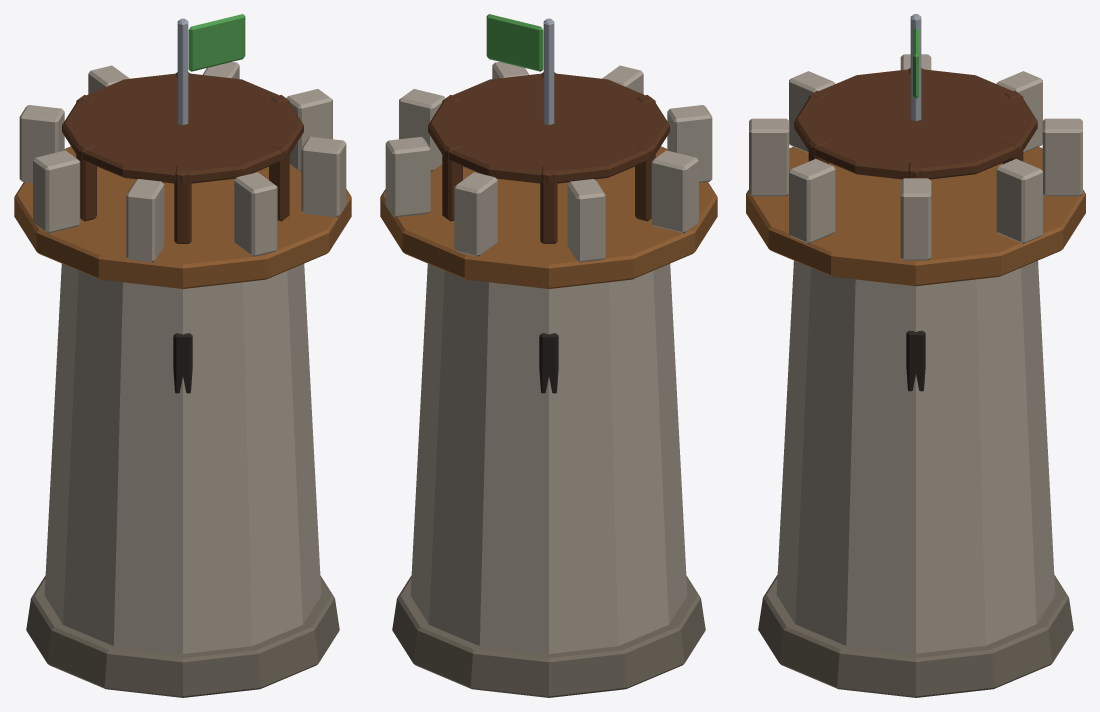
Rendered from tower_archer_2.glb.
The picture shows the model from 3 angles, left to right: view 1: azimuth 30°, elevation 25°; view 2: azimuth 150°, elevation 25°; view 3: azimuth 270°, elevation 25°; orthographic projection.
Parts seen in each view (by area): view 1: SM_Tower_Archer_t2; view 2: SM_Tower_Archer_t2; view 3: SM_Tower_Archer_t2.
Boxes of the visible parts, x1,y1,x2,y2 form: SM_Tower_Archer_t2: [14, 14, 351, 697]; SM_Tower_Archer_t2: [380, 14, 717, 697]; SM_Tower_Archer_t2: [746, 14, 1085, 697].
Bounding box in the file's own units: 1.75 × 3.5 × 1.75.
